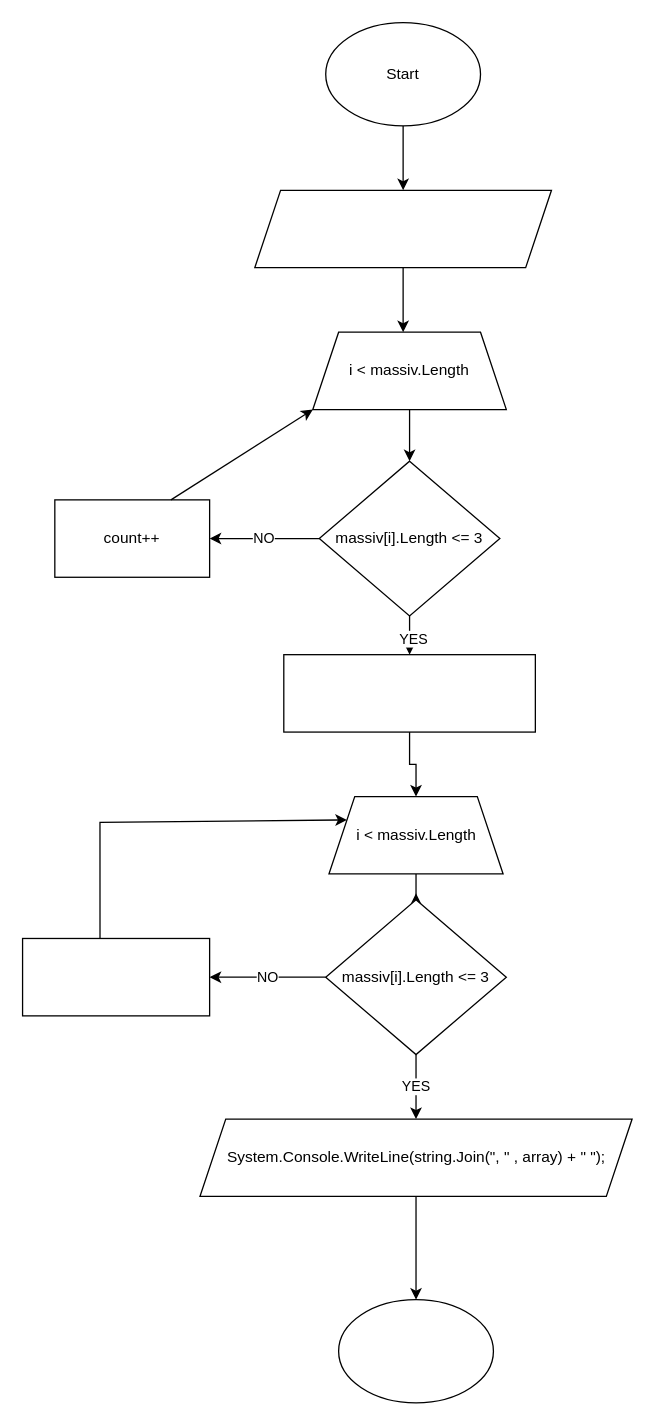
The diagram is 655 pixels wide and 1425 high, and some of its shapes have lost their labels. Here are the shapes that lost their labels. From the top down, the box of each, then its label:
(253, 189, 551, 268): Enter words separated by space: count = 0
(283, 653, 535, 732): string[] array = new string [count]; int index =0;
(21, 937, 210, 1016): array[index] = massiv[i]; index++;
(337, 1298, 493, 1403): Finish
